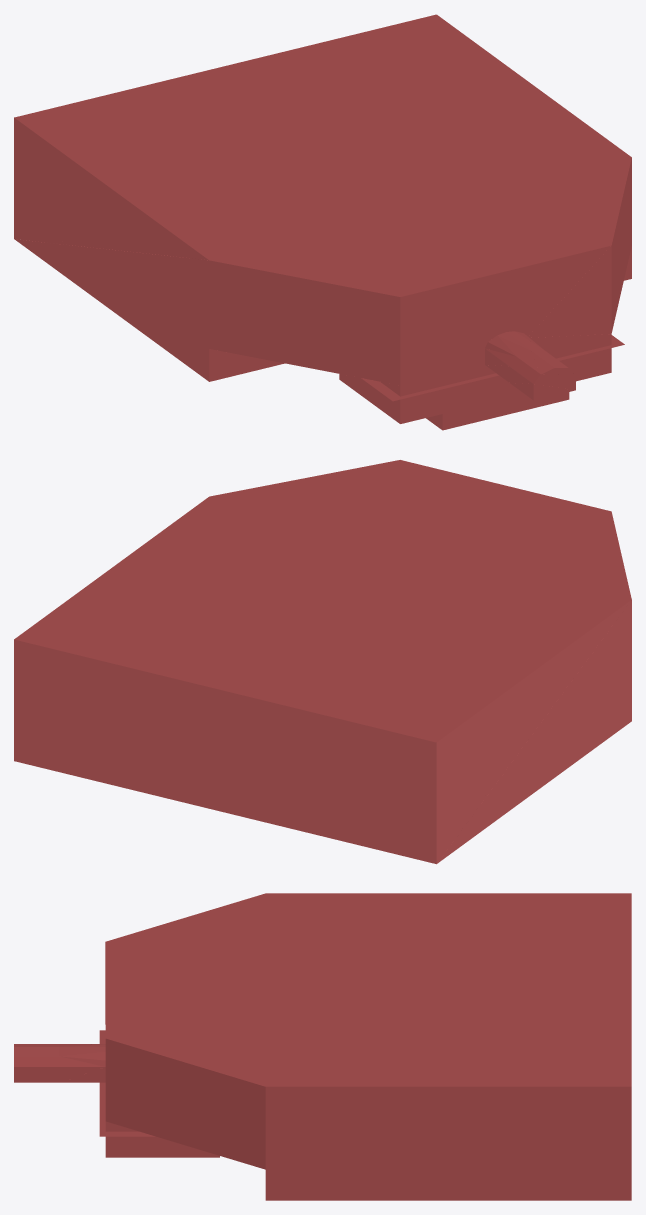
The model's file is snow_kama.glb.
3 views of the same model, one above another, from view 1: azimuth 30°, elevation 25°; view 2: azimuth 150°, elevation 25°; view 3: azimuth 270°, elevation 25° (orthographic). The views are drawn at different scales.
Visible parts, largest first — view 1: snow_kama_col; view 2: snow_kama_col; view 3: snow_kama_col.
Part boxes in pixels (box(x1,y1,x2,y2)): snow_kama_col: box(14, 14, 631, 430); snow_kama_col: box(14, 460, 631, 864); snow_kama_col: box(14, 893, 631, 1200).
Bounding box in the file's own units: 4.01 × 1.3 × 5.4.
